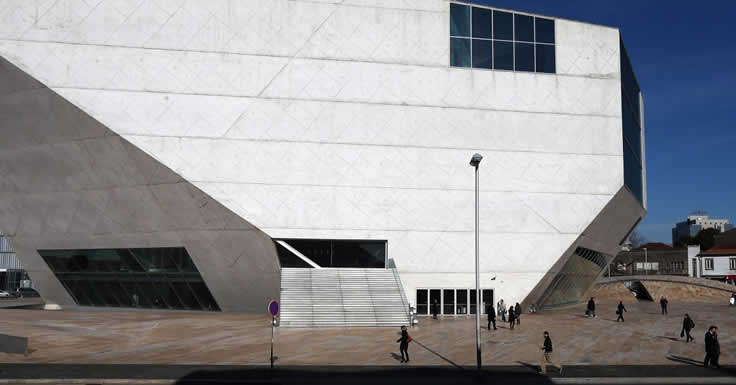musica: (0, 0, 649, 316)
